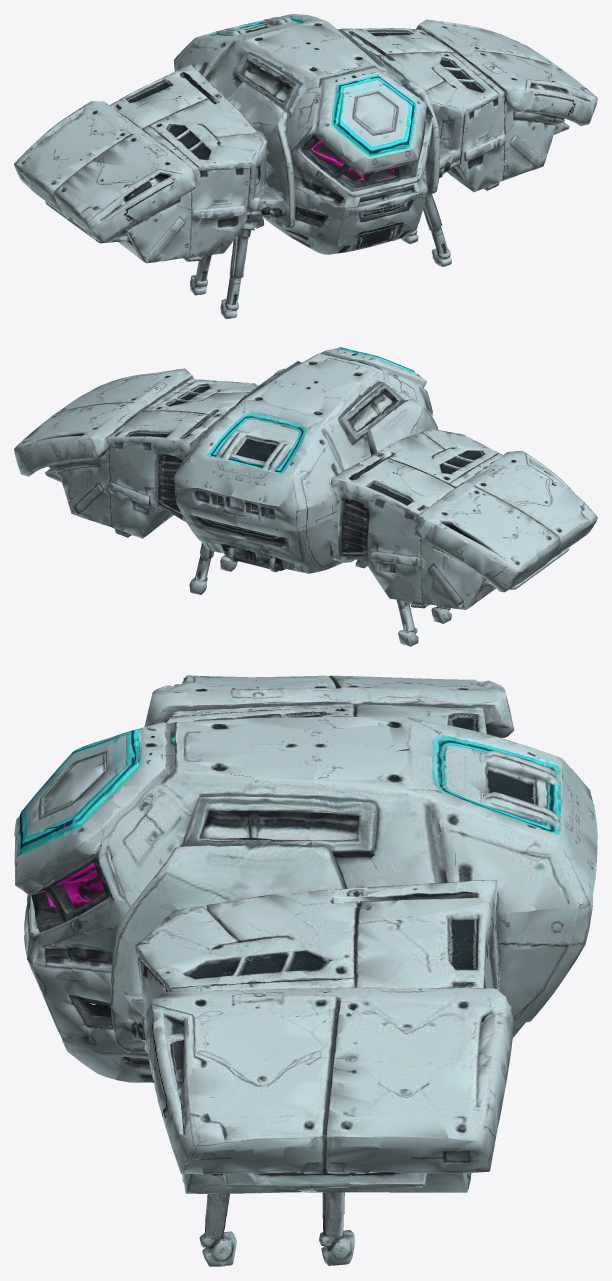
Rendered from init.glb.
The picture shows the model from 3 angles, top to bottom: view 1: azimuth 30°, elevation 25°; view 2: azimuth 150°, elevation 25°; view 3: azimuth 270°, elevation 25°; orthographic projection. The views are drawn at different scales.
Visible parts, largest first — view 1: Mesh_0; view 2: Mesh_0; view 3: Mesh_0.
Part boxes in pixels (<box>): Mesh_0: <box>14,14,597,318</box>; Mesh_0: <box>14,347,597,646</box>; Mesh_0: <box>14,675,597,1266</box>.
Size of the model in its own units: 1.9 by 0.8102 by 1.02.
1 material, 1 textured.
